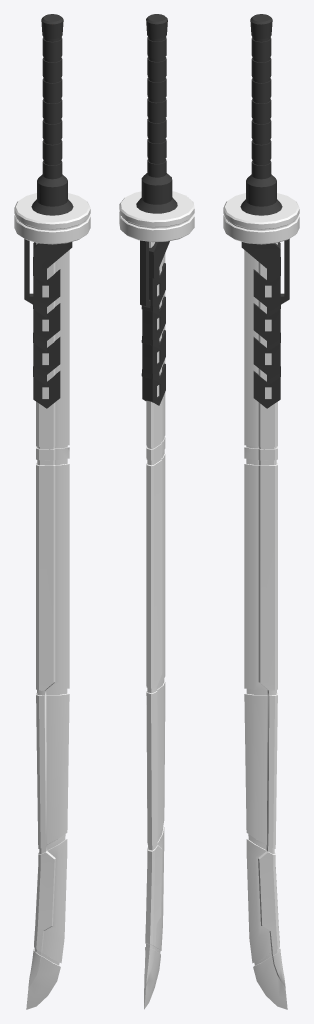
The model's file is Mook.fbx.
The picture shows the model from 3 angles, left to right: view 1: azimuth 90°, elevation 25°; view 2: azimuth 150°, elevation 25°; view 3: azimuth 270°, elevation 25°; orthographic projection.
Visible parts, largest first — view 1: Mook; view 2: Mook; view 3: Mook.
Part boxes in pixels (left/top/right/bottom): Mook: left=14, top=14, right=90, bottom=1009; Mook: left=119, top=14, right=194, bottom=1009; Mook: left=223, top=14, right=299, bottom=1009.
Bounding box in the file's own units: 12.5 × 179 × 12.5.
